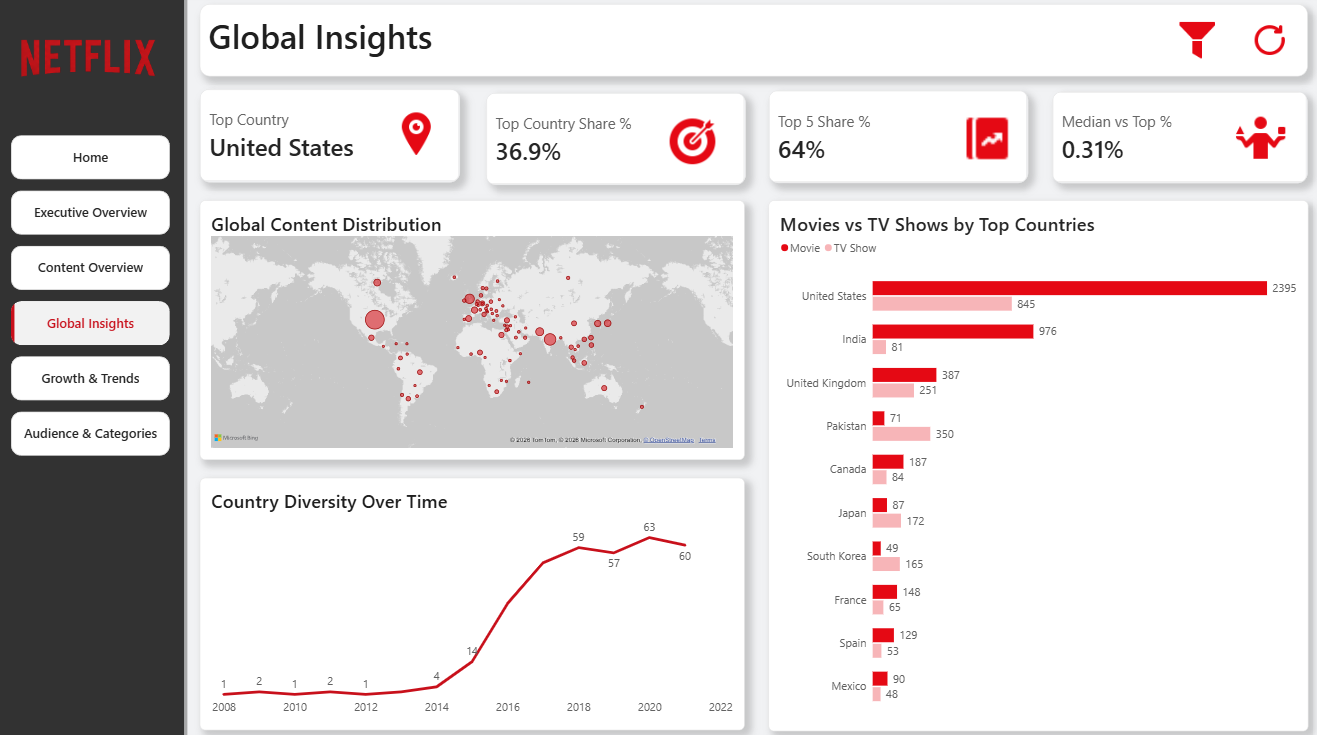

The dashboard page shown, as its layout file describes it:
{"tool":"powerbi","page":{"name":"Global Insights","canvas":[1920,1080],"ordinal":3},"visuals":[{"type":"cardVisual","fields":{"Data":["_Measures.Top Country"]},"box":[295.2,137.1,376.6,134.8],"z":0,"group":"g1"},{"type":"cardVisual","fields":{"Data":["_Measures.Top 5 Countries Share %"]},"box":[1118.5,139.5,375.6,134.1],"z":0,"group":"g3"},{"type":"cardVisual","fields":{"Data":["_Measures.Median vs Top %"]},"box":[1529.5,141.8,369.6,132.5],"z":0,"group":"g4"},{"type":"cardVisual","fields":{"Data":["_Measures.Top Country Share %"]},"box":[709.1,142.9,375.9,133.9],"z":0,"group":"g2"},{"type":"image","box":[1394.2,168.6,83.7,81.4],"z":1000,"group":"g3"},{"type":"image","box":[569.6,169.5,76.9,65.4],"z":1000,"group":"g1"},{"type":"image","box":[1774.7,170.2,111.6,74.4],"z":1000,"group":"g4"},{"type":"image","box":[962.8,177.4,90.7,72.1],"z":1000,"group":"g2"},{"type":"textbox","box":[295.2,13.9,1603.9,104.6],"z":3000},{"type":"image","box":[1798.8,38,90.5,57.9],"z":3000,"group":"g5"},{"type":"image","box":[1693.8,38,90.5,57.9],"z":4000,"group":"g5"},{"type":"group","id":"g1","title":"Group 2","box":[295.2,137.1,376.6,134.8],"z":4000},{"type":"group","id":"g2","title":"Group 3","box":[709.1,142.9,376.6,132.5],"z":5000},{"type":"group","id":"g3","title":"Group 4","box":[1118.5,139.5,375.6,134.1],"z":6000},{"type":"group","id":"g4","title":"Group 5","box":[1529.5,141.8,369.6,132.5],"z":7000},{"type":"shape","box":[0,0,277.3,1079.6],"z":7250},{"type":"pageNavigator","box":[21.2,205.3,230.7,469.9],"z":7500},{"type":"image","box":[36.6,0,194.1,185.7],"z":7750},{"type":"map","title":"Global Content Distribution","fields":{"Category":["Shows.country"],"Size":["_Measures.Total Titles"]},"box":[295,298.7,789,375.7],"z":8000},{"type":"lineChart","title":"Country Diversity Over Time","fields":{"Category":["DimDate.Date Hierarchy.Year","DimDate.Date Hierarchy.Quarter","DimDate.Date Hierarchy.Month Full Name"],"Y":["_Measures.Countries Represented"]},"box":[295,700.3,789,365.6],"z":9000},{"type":"clusteredBarChart","title":"Movies vs TV Shows by Top Countries","fields":{"Category":["Shows.country"],"Series":["Shows.type"],"Y":["_Measures.Total Titles"]},"box":[1119.2,297.7,781.9,768.8],"z":10000},{"type":"group","id":"g5","title":"Filter Controls","box":[1693.8,38,195.4,57.9],"z":12000}]}

Visuals, with their boxes on the page's 1920x1080 design canvas (x1, y1, x2, y2). These are canvas units, not pixel positions in the 1317x735 screenshot, which may show the page scaled, cropped or inside an application window:
cardVisual - _Measures.Top Country: box=[295, 137, 672, 272]
cardVisual - _Measures.Top 5 Countries Share %: box=[1118, 140, 1494, 274]
cardVisual - _Measures.Median vs Top %: box=[1530, 142, 1899, 274]
cardVisual - _Measures.Top Country Share %: box=[709, 143, 1085, 277]
image: box=[1394, 169, 1478, 250]
image: box=[570, 170, 646, 235]
image: box=[1775, 170, 1886, 245]
image: box=[963, 177, 1054, 250]
textbox: box=[295, 14, 1899, 118]
image: box=[1799, 38, 1889, 96]
image: box=[1694, 38, 1784, 96]
"Group 2" group: box=[295, 137, 672, 272]
"Group 3" group: box=[709, 143, 1086, 275]
"Group 4" group: box=[1118, 140, 1494, 274]
"Group 5" group: box=[1530, 142, 1899, 274]
shape: box=[0, 0, 277, 1080]
pageNavigator: box=[21, 205, 252, 675]
image: box=[37, 0, 231, 186]
"Global Content Distribution" map: box=[295, 299, 1084, 674]
"Country Diversity Over Time" lineChart: box=[295, 700, 1084, 1066]
"Movies vs TV Shows by Top Countries" clusteredBarChart: box=[1119, 298, 1901, 1066]
"Filter Controls" group: box=[1694, 38, 1889, 96]
